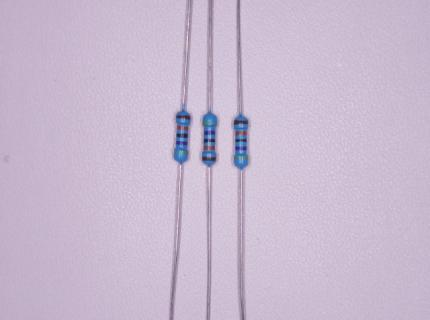Black band: (176, 133, 188, 138), (235, 139, 247, 143), (204, 139, 215, 143)
Brown band: (176, 115, 190, 120), (234, 120, 248, 125), (202, 157, 216, 161)
Orange band: (177, 125, 188, 131), (235, 131, 247, 136), (204, 146, 215, 150)
Violet band: (235, 146, 247, 151), (176, 141, 188, 145), (204, 131, 215, 135)
Yellow band: (202, 121, 217, 125), (234, 156, 249, 160), (174, 151, 188, 155)
